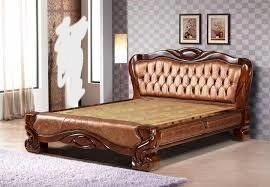Bed-Mattress: (18, 46, 256, 160)
